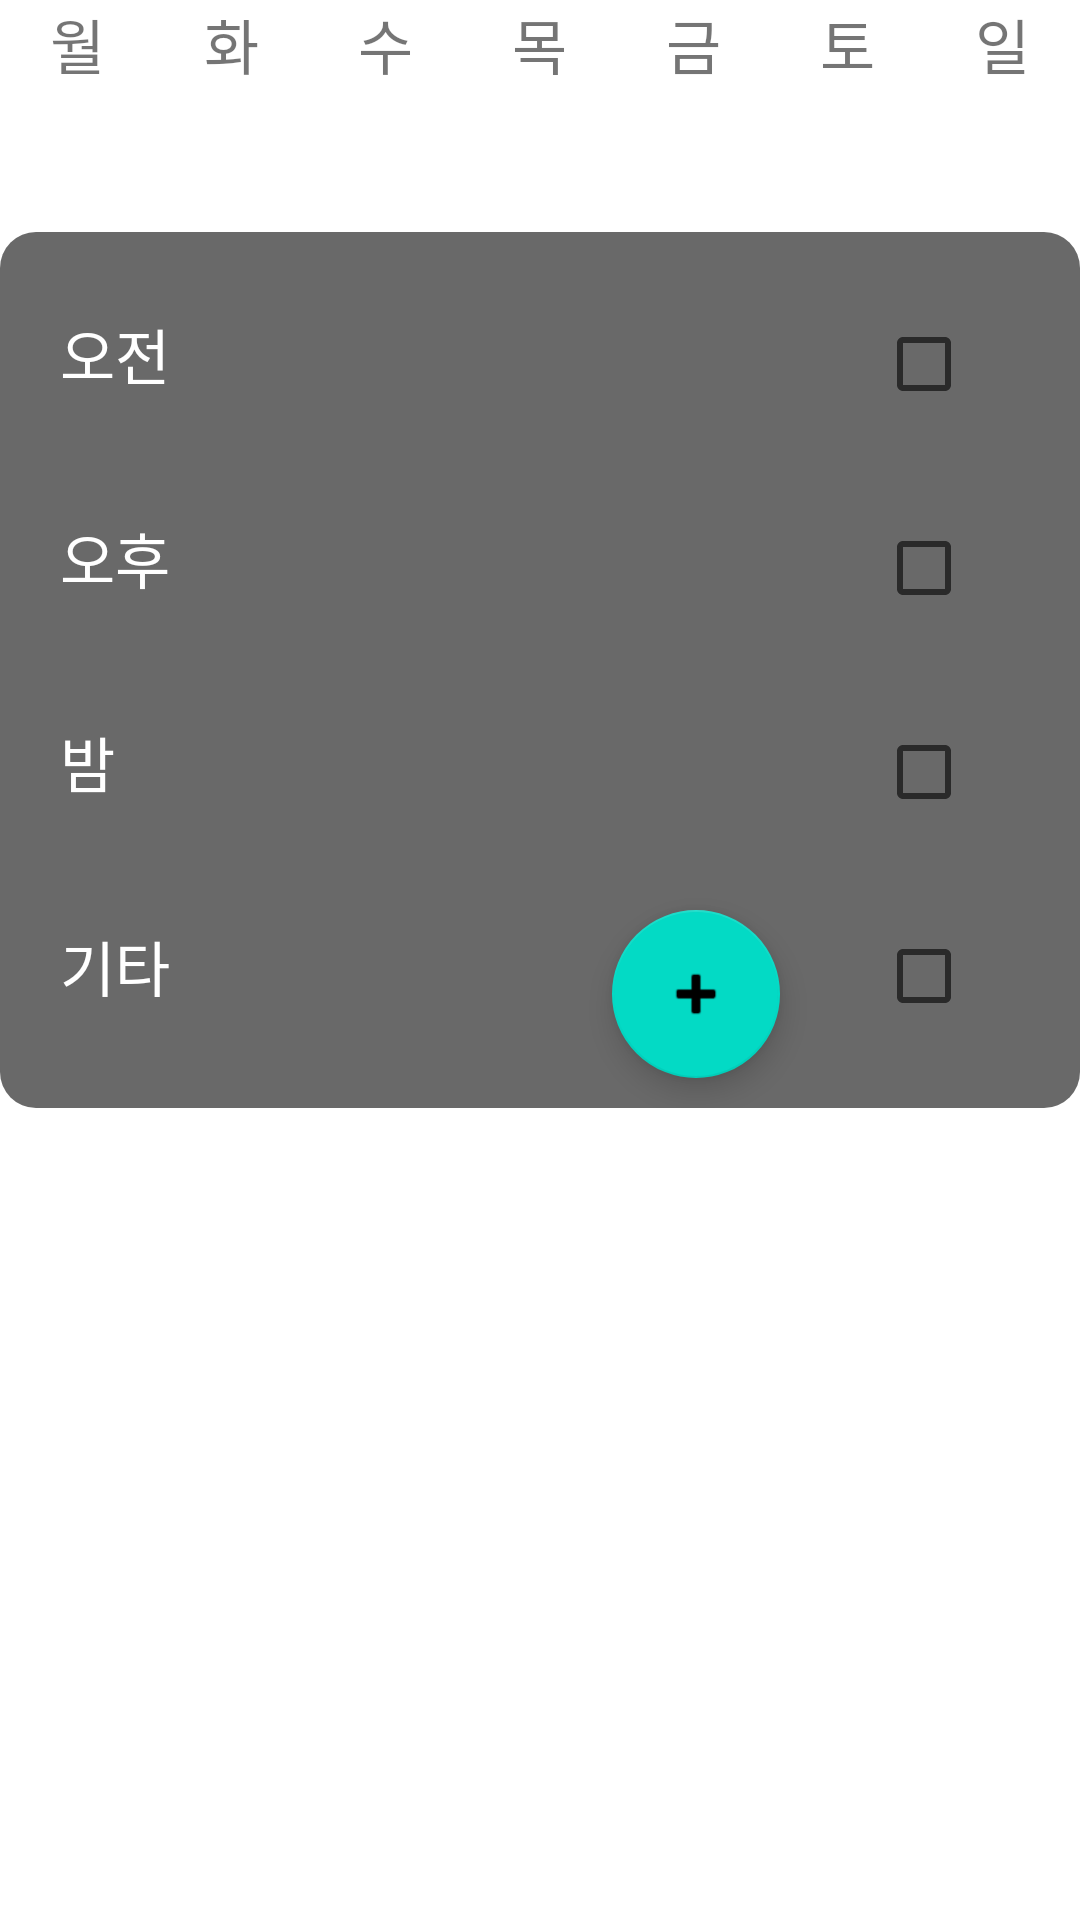

Where to tap for icons on this 1080 × 1920 app screen, as (x=x, y=y):
add: (x=696, y=994)
